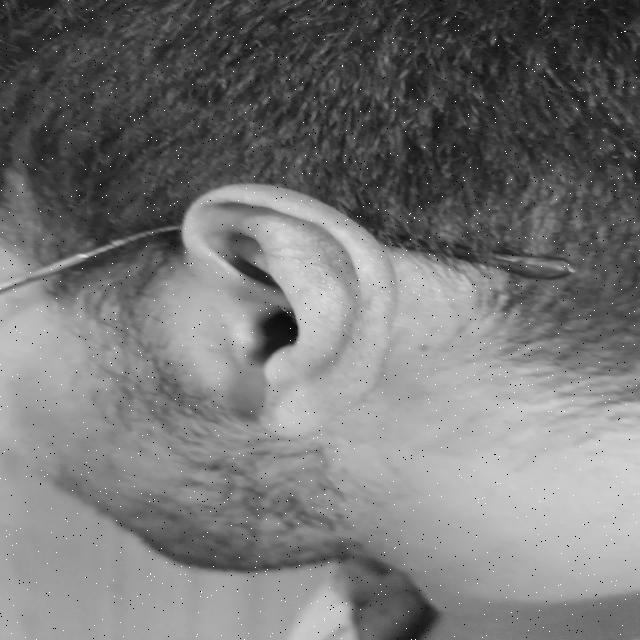ear: (182, 184, 396, 436), (203, 305, 207, 312), (212, 282, 219, 286), (210, 311, 212, 312)
